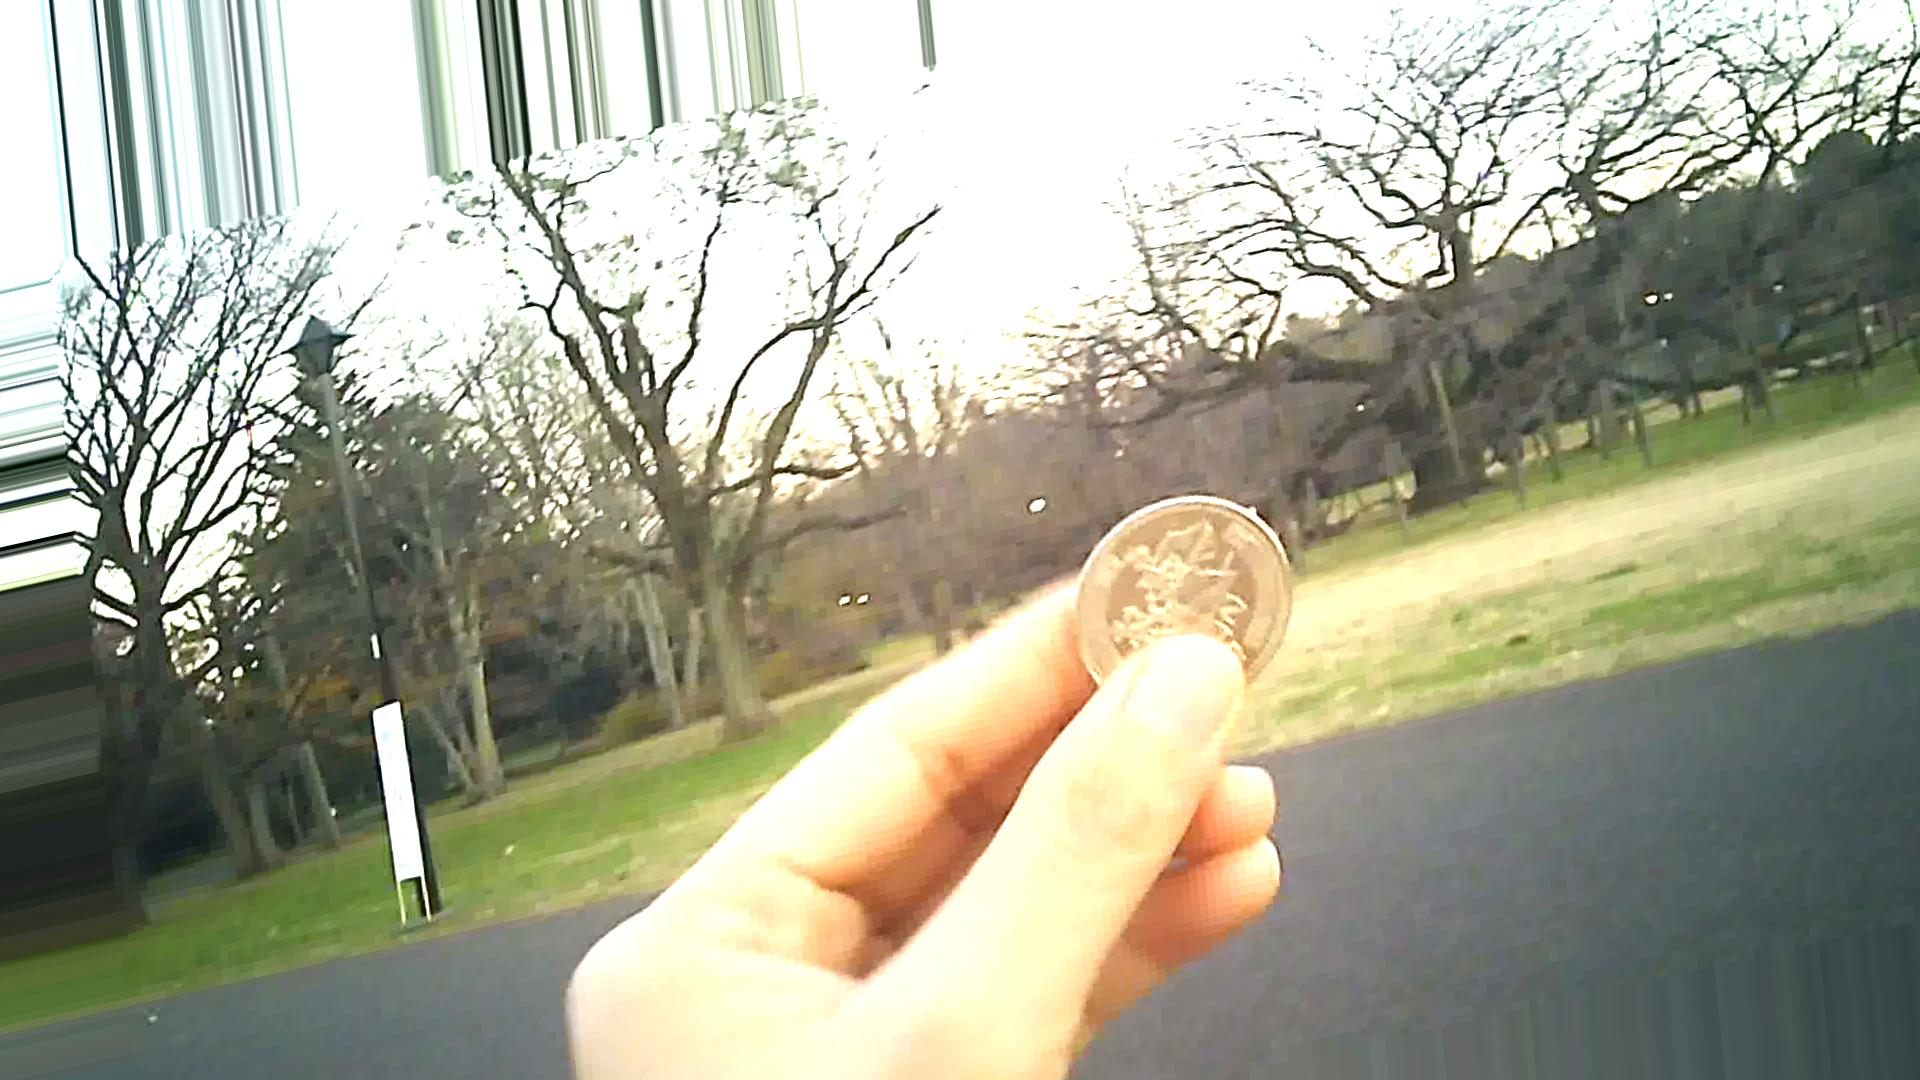500 Yen: (1064, 489, 1305, 720)
